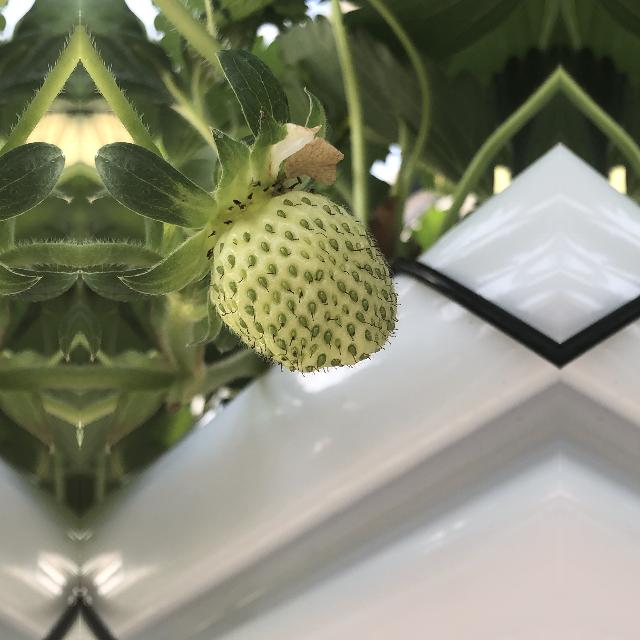Health_25: (206, 184, 410, 380)
